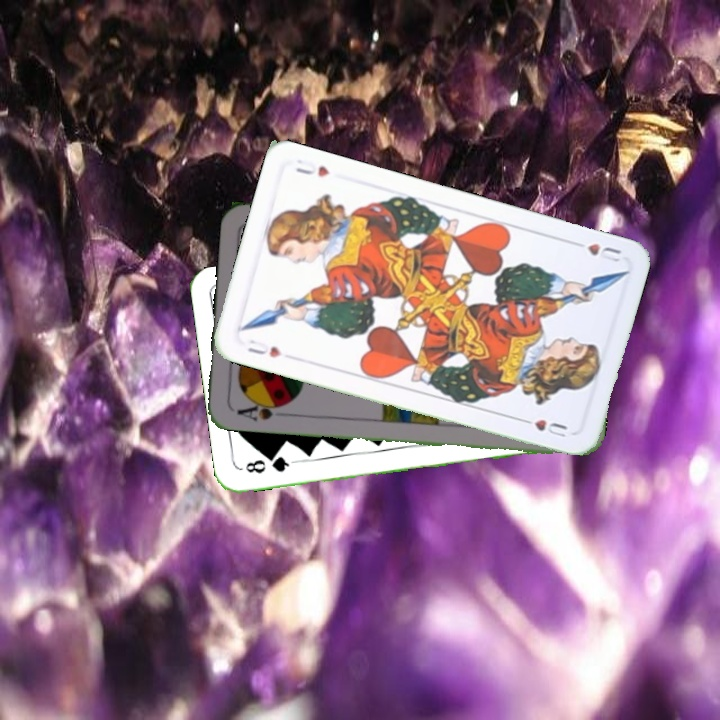G8: (241, 452, 298, 476)
HU: (568, 237, 625, 265), (243, 335, 284, 360)
SA: (233, 396, 290, 424)
